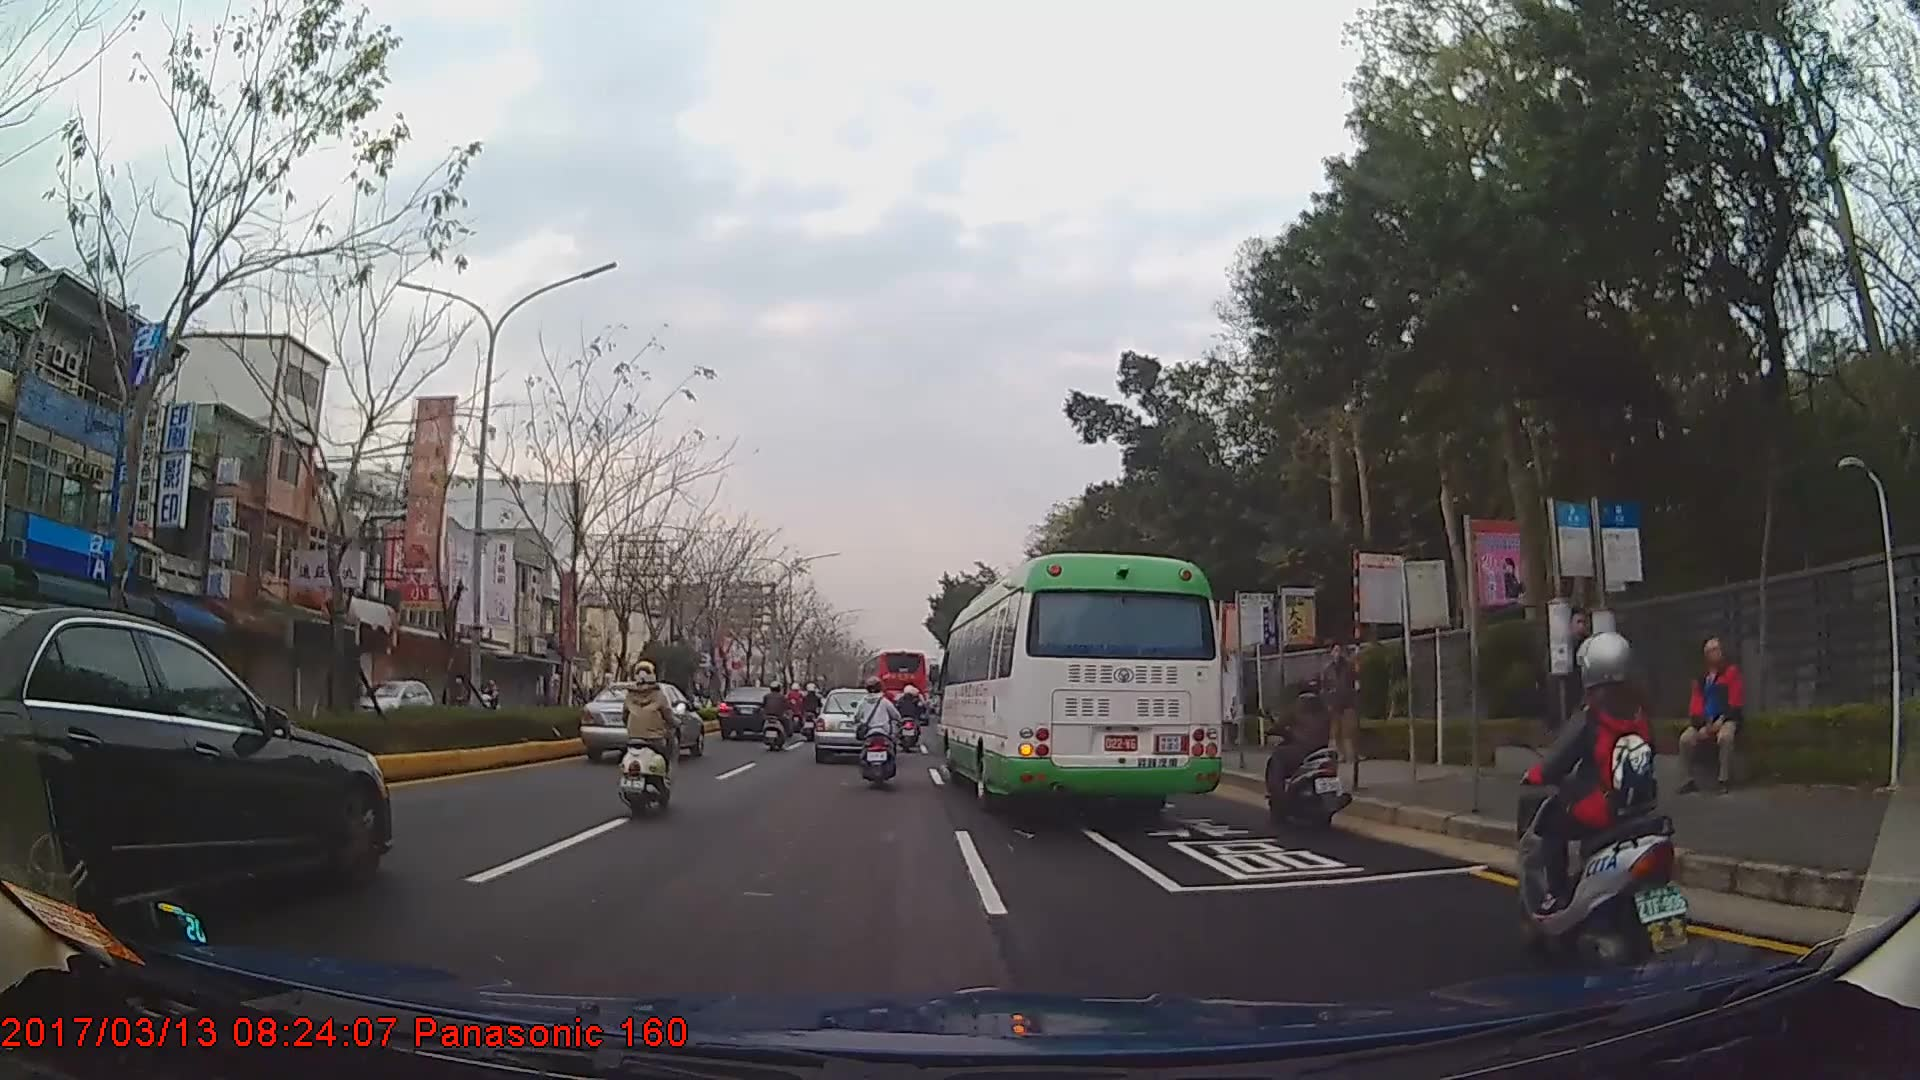pedestrian: (1679, 639, 1747, 796), (1315, 643, 1366, 762)
rider: (1508, 625, 1687, 946), (1255, 672, 1350, 827), (618, 659, 680, 826), (851, 678, 901, 788), (759, 683, 792, 753), (896, 684, 925, 737), (801, 681, 822, 729), (479, 677, 499, 710), (448, 677, 468, 709)
vehicle: (0, 600, 391, 952), (937, 551, 1223, 815), (578, 678, 704, 760), (812, 686, 888, 765), (348, 673, 436, 726), (858, 648, 925, 717), (719, 682, 791, 741)
